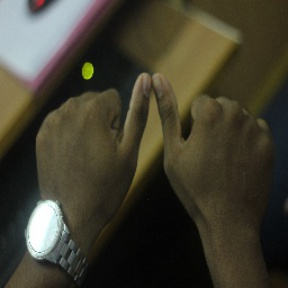A: (74, 66, 231, 190)
